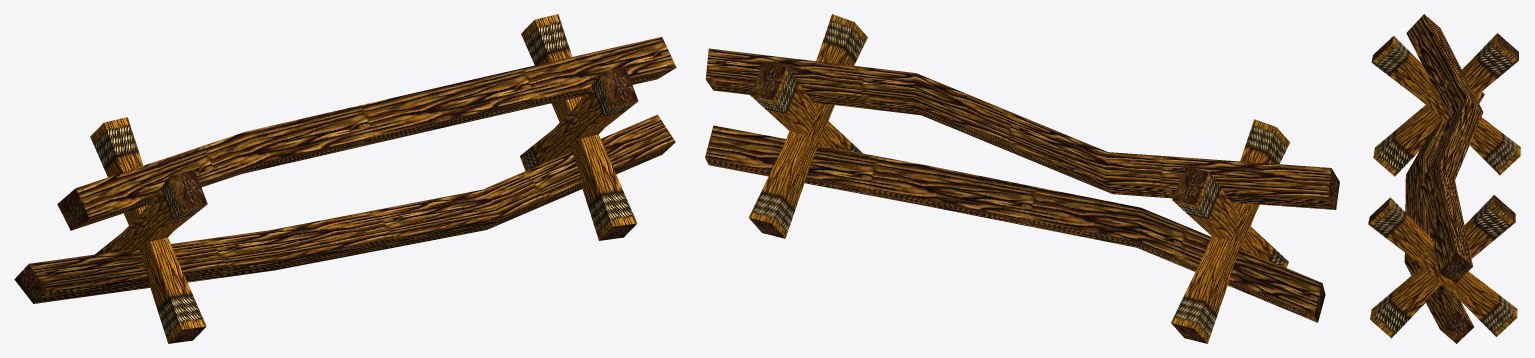
Rendered from CB_BARACADE01.fbx.
3 renders of one model, left to right at view 1: azimuth 30°, elevation 25°; view 2: azimuth 150°, elevation 25°; view 3: azimuth 270°, elevation 25°, orthographic. The views are drawn at different scales.
Visible parts, largest first — view 1: CB_BARACADE01; view 2: CB_BARACADE01; view 3: CB_BARACADE01.
Boxes of the visible parts, box(x1,y1,x2,y2) form: CB_BARACADE01: box(14, 14, 676, 343); CB_BARACADE01: box(705, 14, 1339, 343); CB_BARACADE01: box(1368, 14, 1520, 343).
Bounding box in the file's own units: 62118 × 16410 × 16797.
4 materials, 4 textured.
